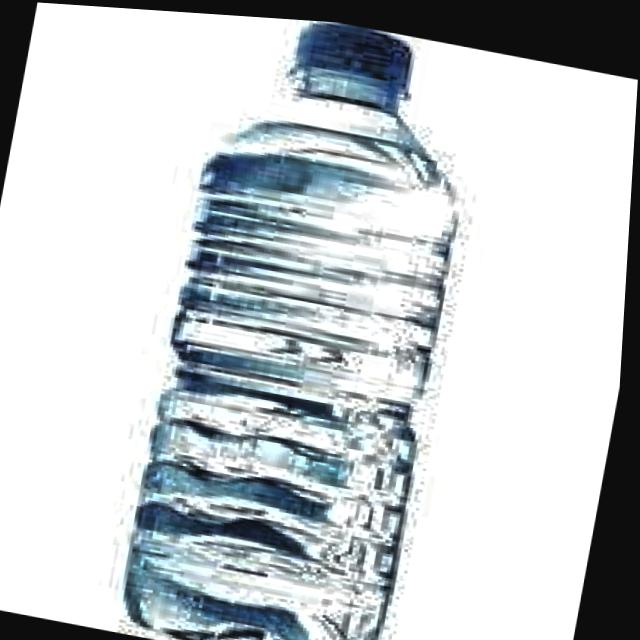Bottles: (89, 6, 517, 640)
